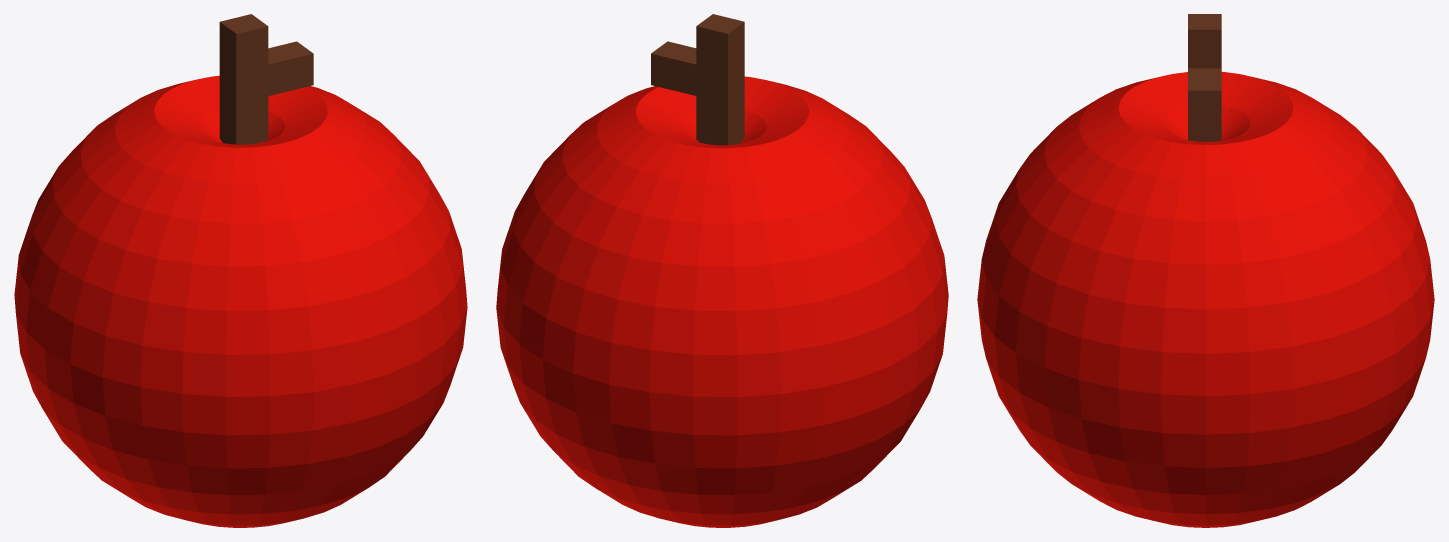
The model's file is Apple_Deta.fbx.
The picture shows the model from 3 angles, left to right: view 1: azimuth 30°, elevation 25°; view 2: azimuth 150°, elevation 25°; view 3: azimuth 270°, elevation 25°; orthographic projection.
Visible parts, largest first — view 1: 球; view 2: 球; view 3: 球.
Part boxes in pixels (box(x1,y1,x2,y2)): 球: box(14, 14, 467, 527); 球: box(496, 14, 948, 527); 球: box(977, 14, 1434, 527).
Size of the model in its own units: 200 by 233 by 200.
